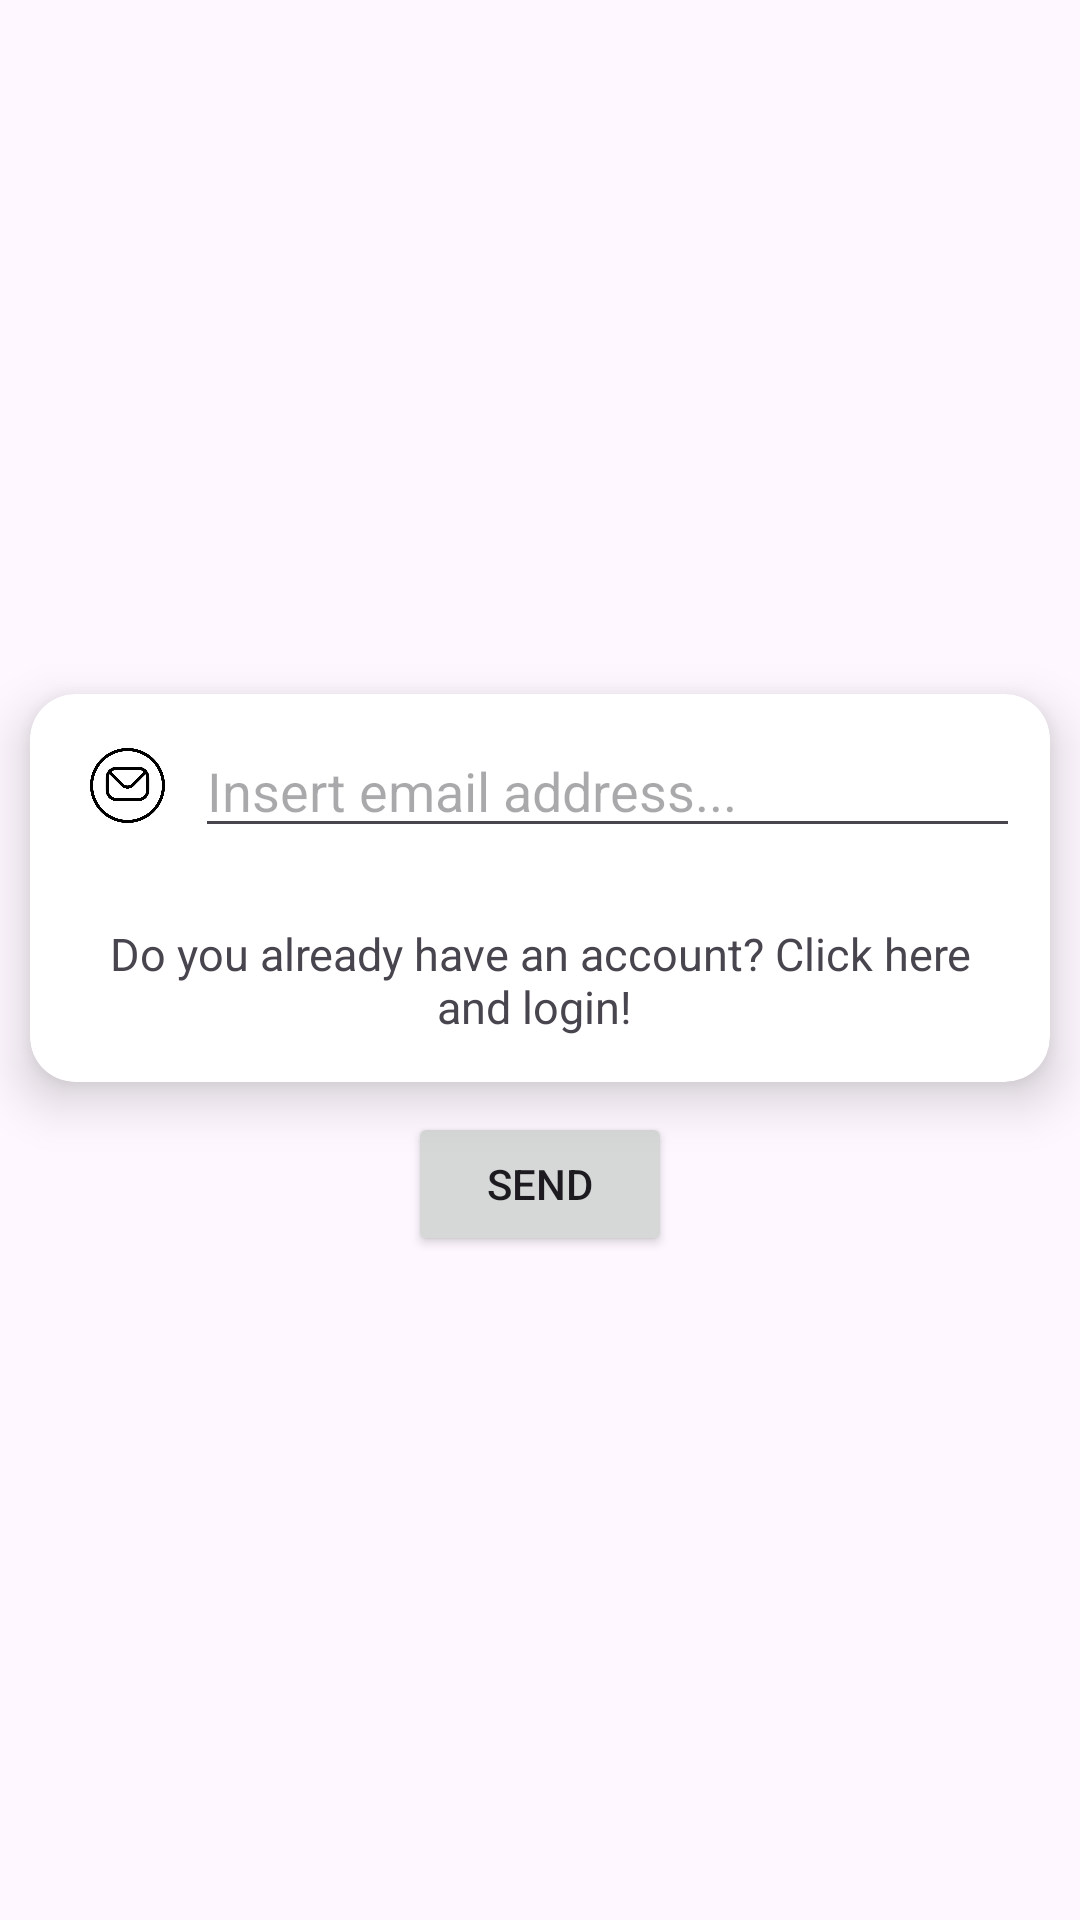

Screen size 1080×1920. Icon name, then its box in pixels as (x1, y1, x2, y2):
circle envelope: (90, 748, 165, 823)
